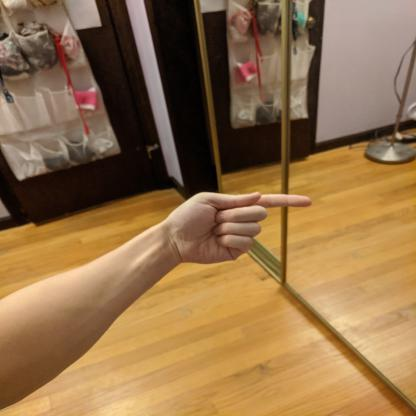G: (168, 190, 316, 266)
